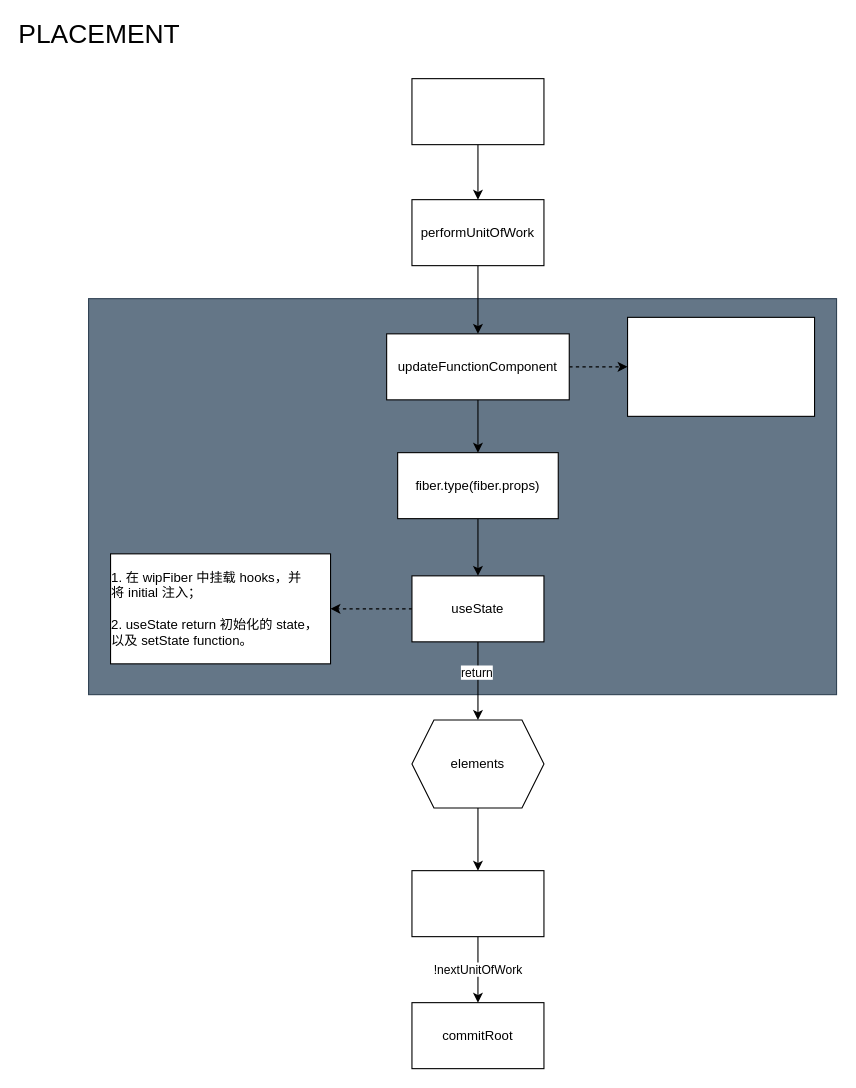
Image size: 856x1088. Some labels were removed from this diagram. The box of each missing label's shape, as (x1, y1, x2, y2) in pixels:
reconcileChildren: (411, 870, 544, 937)
render: (411, 78, 544, 145)
初始化 hooks 变量： wipFiber = fiber ; hookIndex = 0 ; wipFiber.hooks = [];: (626, 316, 815, 416)
